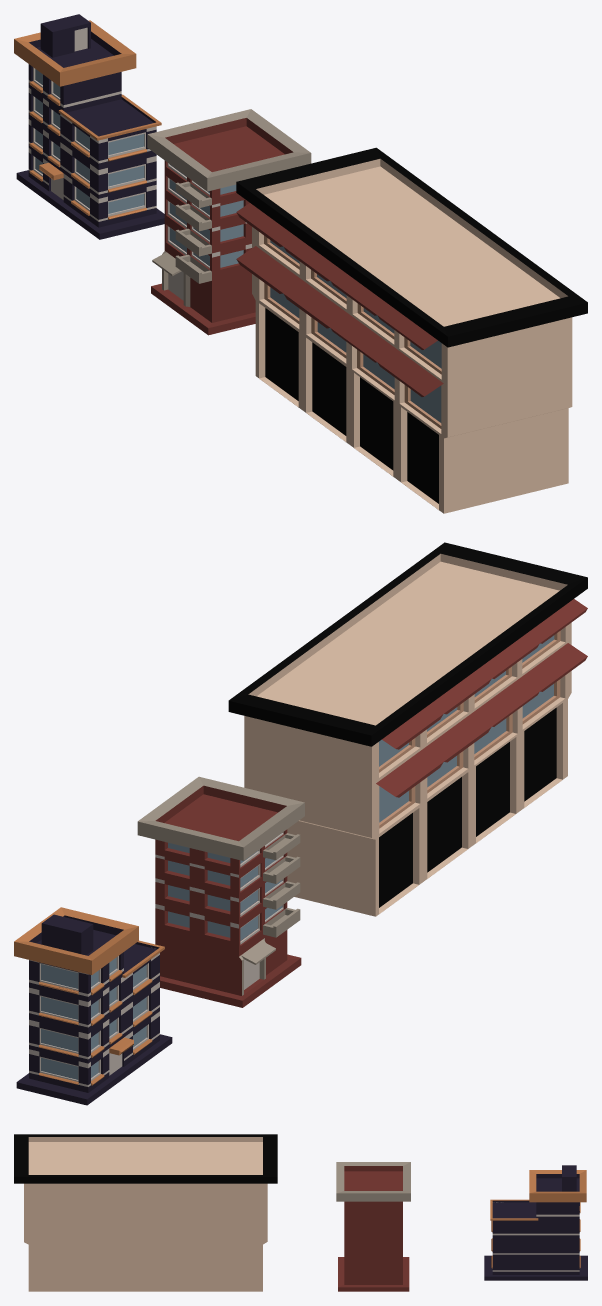
The model's file is Buildings.fbx.
3 renders of one model, top to bottom at view 1: azimuth 30°, elevation 25°; view 2: azimuth 150°, elevation 25°; view 3: azimuth 270°, elevation 25°, orthographic. The views are drawn at different scales.
Parts seen in each view (by area): view 1: Cube.002, Cube, Cube.001; view 2: Cube.002, Cube.001, Cube; view 3: Cube.002, Cube, Cube.001.
Part boxes in pixels (box(x1,y1,x2,y2)): Cube.002: box(236, 147, 587, 513); Cube: box(14, 14, 164, 239); Cube.001: box(147, 109, 311, 335); Cube.002: box(228, 542, 587, 916); Cube.001: box(137, 776, 304, 1007); Cube: box(14, 907, 172, 1105); Cube.002: box(14, 1134, 277, 1291); Cube: box(484, 1165, 587, 1280); Cube.001: box(336, 1162, 410, 1291).
Size of the model in its own units: 1716 by 2095 by 9015.
